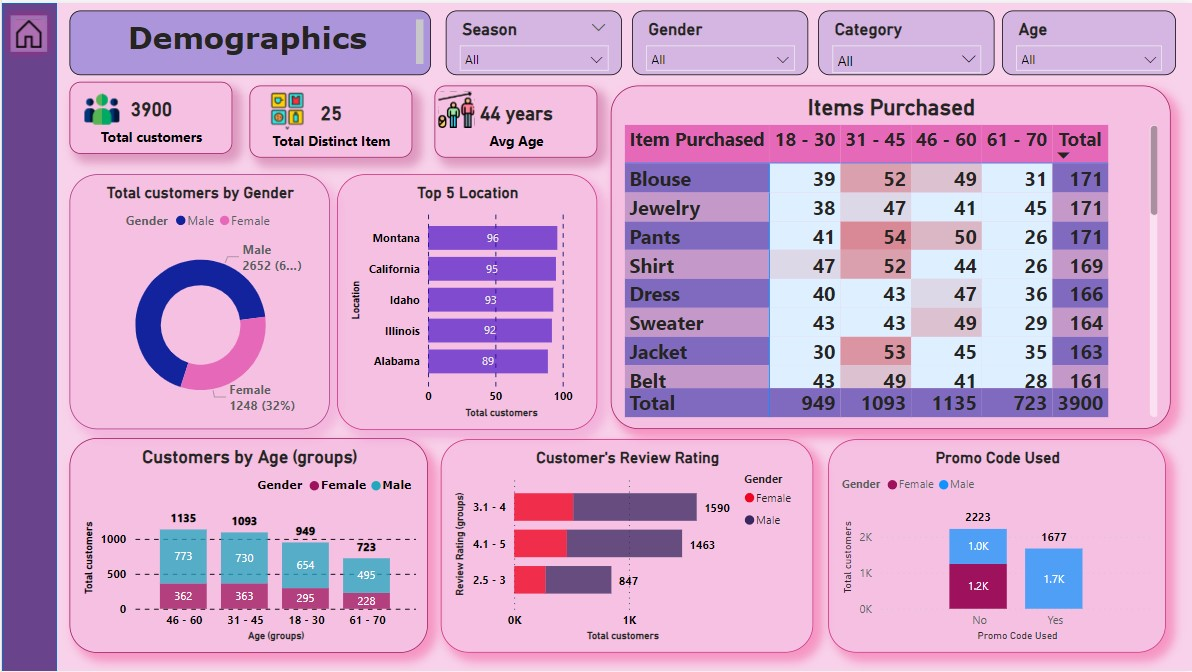

The dashboard page shown, as its layout file describes it:
{"tool":"powerbi","page":{"name":"Page 1","canvas":[1280,720],"ordinal":0},"visuals":[{"type":"shape","box":[0,0,59.2,720.8],"z":1000},{"type":"textbox","box":[72.5,8,388.9,69.6],"z":2000},{"type":"donutChart","title":"Total customers by Gender","fields":{"Category":["shopping_trends_updated.Gender"],"Y":["shopping_trends_updated.Total customers"]},"box":[72.6,184.2,279.7,274.3],"z":3000},{"type":"columnChart","title":" Customers by Age (groups) ","fields":{"Category":["shopping_trends_updated.Age (groups)"],"Series":["shopping_trends_updated.Gender"],"Y":["shopping_trends_updated.Total customers"]},"box":[72.6,468,386,231.3],"z":4000},{"type":"card","fields":{"Values":["shopping_trends_updated.Total customers"]},"box":[72.6,84.7,175,78],"z":5000},{"type":"card","fields":{"Values":["shopping_trends_updated.Avg Age"]},"box":[465.3,88.8,175,78],"z":6000},{"type":"card","fields":{"Values":["shopping_trends_updated.Total Item"]},"box":[266.3,88.8,175,78],"z":7000},{"type":"pivotTable","title":"Items Purchased ","fields":{"Values":["shopping_trends_updated.Total customers"],"Columns":["shopping_trends_updated.Age (groups)"],"Rows":["Product.Item Purchased"]},"box":[654.9,88.8,602.5,369.8],"z":8000},{"type":"columnChart","title":" Promo Code Used ","fields":{"Y":["shopping_trends_updated.Total customers"],"Series":["shopping_trends_updated.Gender"],"Category":["sales.Promo Code Used"]},"box":[888.9,469.3,363.1,230],"z":9000},{"type":"slicer","fields":{"Values":["shopping_trends_updated.Age (groups)"]},"box":[1075.9,8.1,186.9,69.9],"z":10000},{"type":"clusteredBarChart","title":"Top 5 Location","fields":{"Category":["shopping_trends_updated.Location"],"Y":["shopping_trends_updated.Total customers"]},"box":[360,184.2,280,275],"z":11000},{"type":"slicer","fields":{"Values":["shopping_trends_updated.Season"]},"box":[477.4,8,189.6,69.9],"z":12000},{"type":"barChart","title":"Customer''s  Review Rating ","fields":{"Category":["shopping_trends_updated.Review Rating (groups)"],"Series":["shopping_trends_updated.Gender"],"Y":["shopping_trends_updated.Total customers"]},"box":[472,469.3,400.8,230],"z":13000},{"type":"slicer","fields":{"Values":["shopping_trends_updated.Gender"]},"box":[677.8,8.1,189.6,69.9],"z":14000},{"type":"slicer","fields":{"Values":["Product.Category","Product.Item Purchased"]},"box":[878.2,8.1,189.6,69.9],"z":15000},{"type":"actionButton","box":[1.3,5.4,55.1,55.1],"z":16000},{"type":"actionButton","box":[84.7,91.4,49.8,45.7],"z":17000},{"type":"actionButton","box":[262.2,86.1,90.1,60.5],"z":18000},{"type":"actionButton","box":[465.3,91.4,52.4,47.1],"z":19000}]}

Visuals, with their boxes in screenshot pixels (x1, y1, x2, y2), scaled from the page's 1280x720 canvas onto the 1192x672 screenshot:
shape: x1=0 y1=0 x2=55 y2=671
textbox: x1=68 y1=7 x2=430 y2=72
"Total customers by Gender" donutChart: x1=68 y1=172 x2=328 y2=428
" Customers by Age (groups) " columnChart: x1=68 y1=437 x2=427 y2=653
card - shopping_trends_updated.Total customers: x1=68 y1=79 x2=231 y2=152
card - shopping_trends_updated.Avg Age: x1=433 y1=83 x2=596 y2=156
card - shopping_trends_updated.Total Item: x1=248 y1=83 x2=411 y2=156
"Items Purchased " pivotTable: x1=610 y1=83 x2=1171 y2=428
" Promo Code Used " columnChart: x1=828 y1=438 x2=1166 y2=653
slicer - shopping_trends_updated.Age (groups): x1=1002 y1=8 x2=1176 y2=73
"Top 5 Location" clusteredBarChart: x1=335 y1=172 x2=596 y2=429
slicer - shopping_trends_updated.Season: x1=445 y1=7 x2=621 y2=73
"Customer''s  Review Rating " barChart: x1=440 y1=438 x2=813 y2=653
slicer - shopping_trends_updated.Gender: x1=631 y1=8 x2=808 y2=73
slicer - Product.Category x Product.Item Purchased: x1=818 y1=8 x2=994 y2=73
actionButton: x1=1 y1=5 x2=53 y2=56
actionButton: x1=79 y1=85 x2=125 y2=128
actionButton: x1=244 y1=80 x2=328 y2=137
actionButton: x1=433 y1=85 x2=482 y2=129
